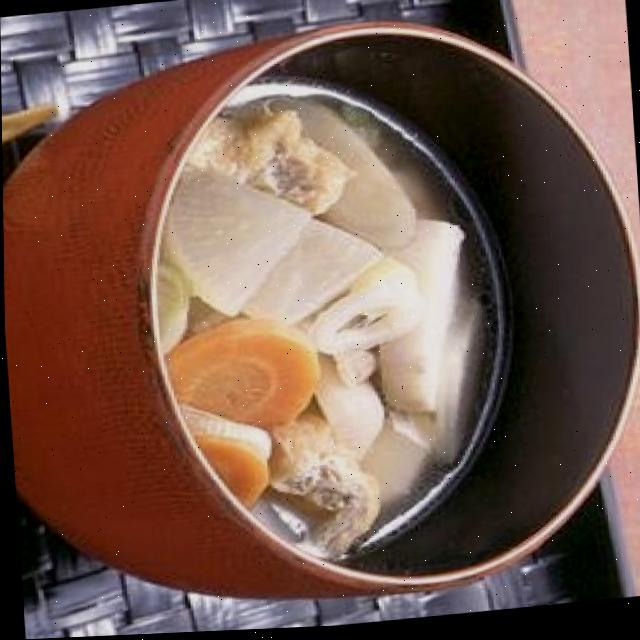蔬菜料理: (142, 2, 640, 600)
